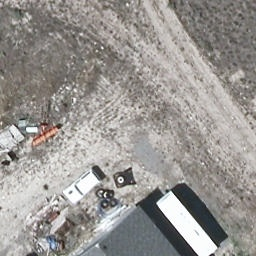car: (60, 164, 107, 207)
